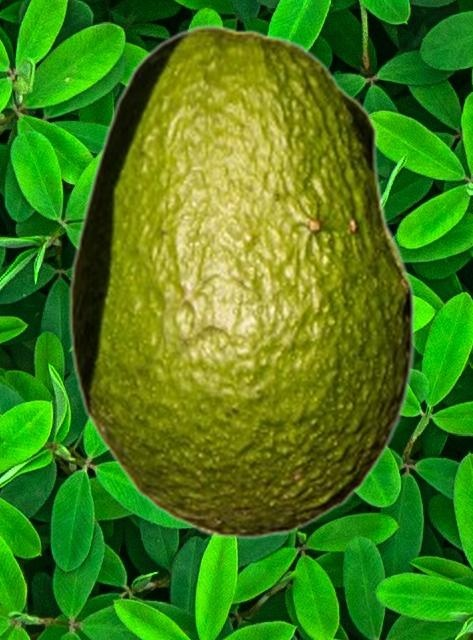avocado: (68, 23, 415, 539)
